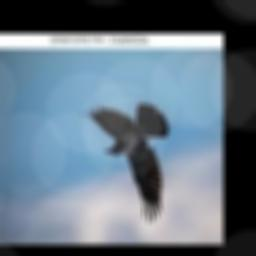Crow: (79, 103, 167, 224)
